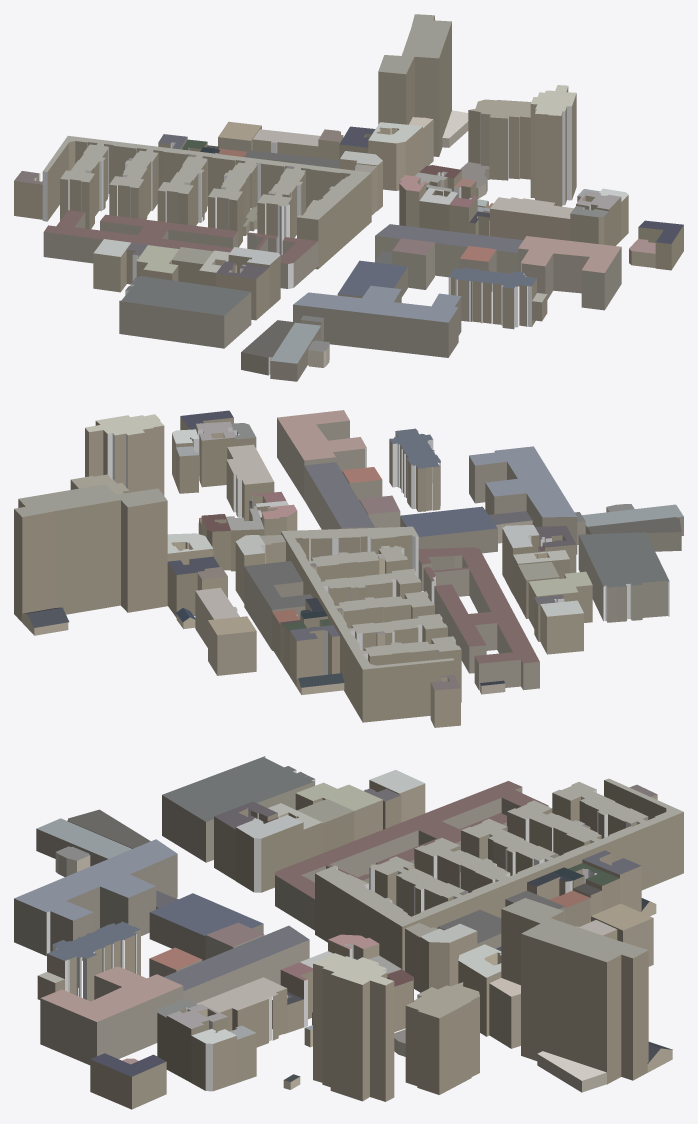
3 views of the same model, one above another, from view 1: azimuth 30°, elevation 25°; view 2: azimuth 150°, elevation 25°; view 3: azimuth 270°, elevation 25° (orthographic). The views are drawn at different scales.
Parts seen in each view (by area): view 1: tuile; view 2: tuile; view 3: tuile.
Boxes of the visible parts, x1,y1,x2,y2 form: tuile: (14, 14, 683, 381); tuile: (14, 410, 683, 727); tuile: (14, 756, 683, 1109).
Size of the model in its own units: 283 by 55.41 by 259.
